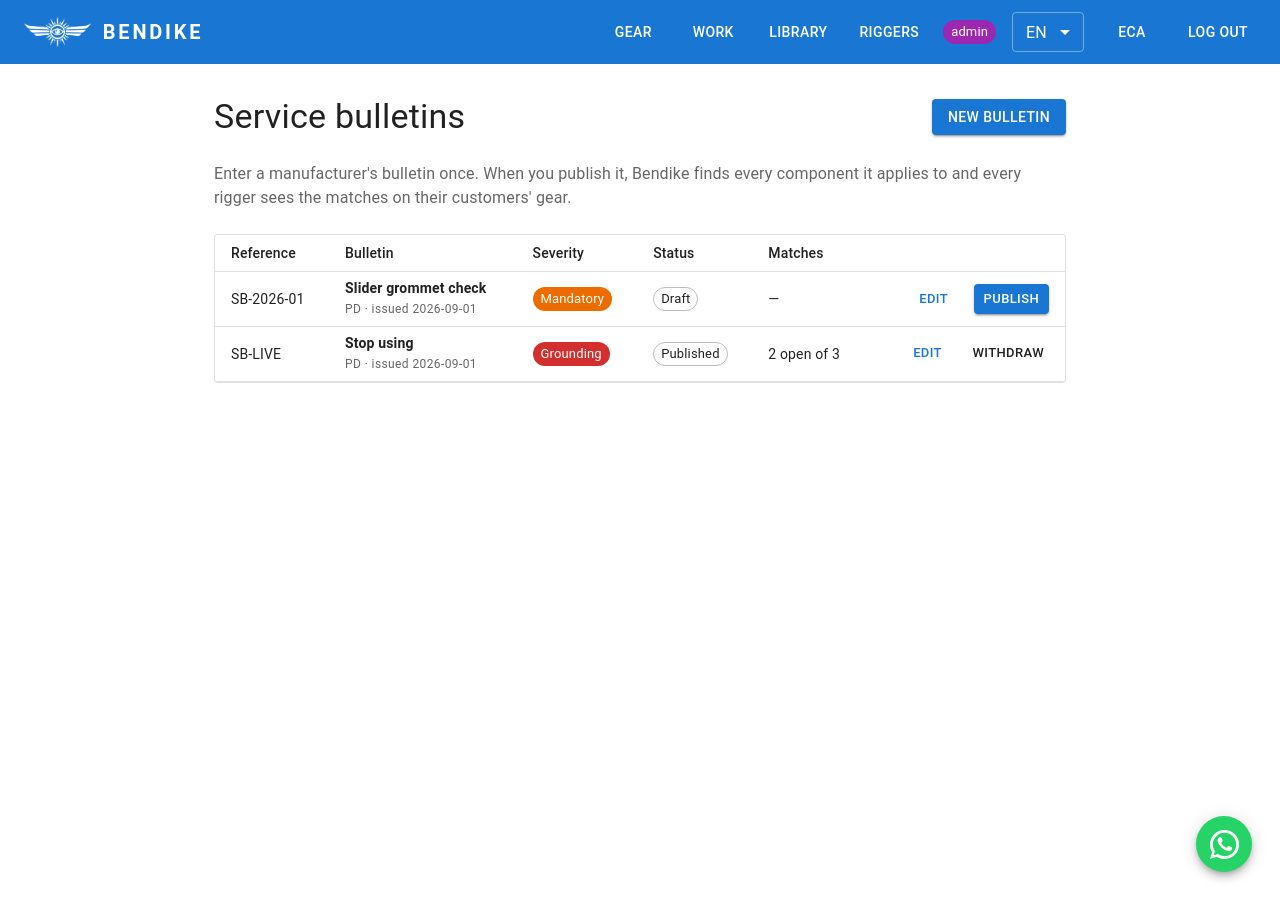
Test: BulletinsPage › warns that a grounding bulletin grounds every matched rig when it is published
Expected: the text "SB-2026-01" is shown, [215, 272, 329, 326]
Click the button "New bulletin" at (999, 117), box [932, 99, 1066, 135]
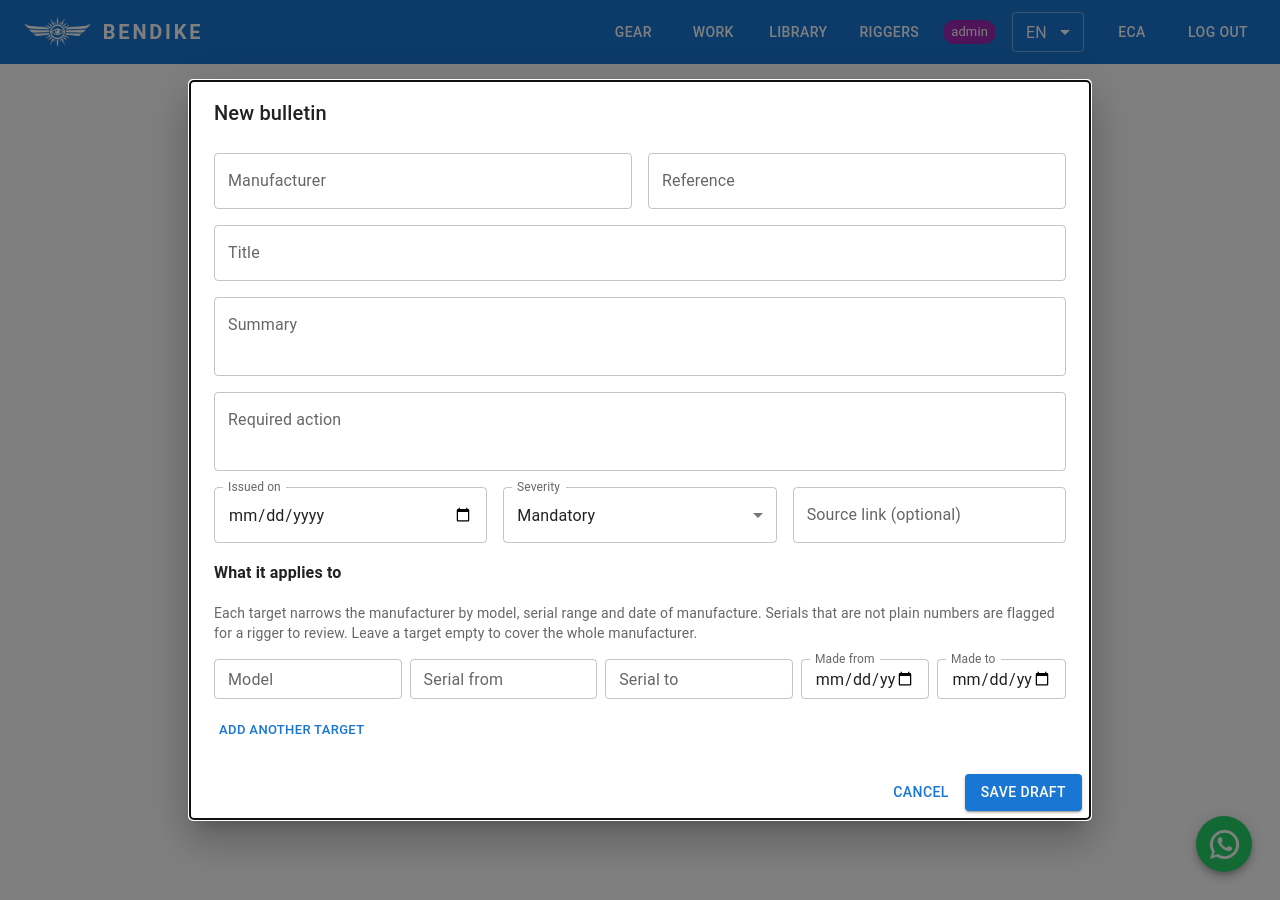
Click the dropdown named "Severity" at (556, 515), box [517, 506, 595, 525]
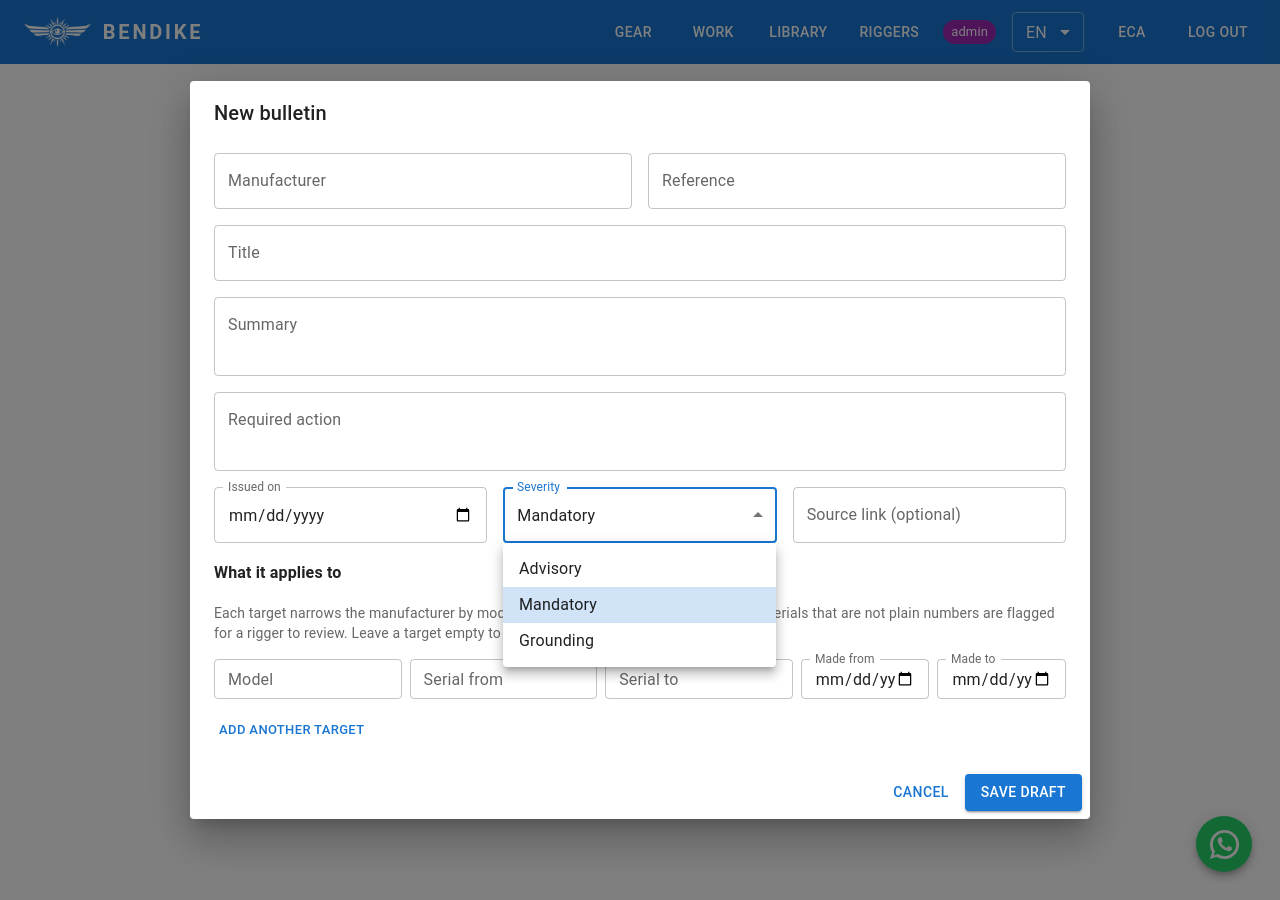
Click the option "Grounding" at (556, 640), box [519, 631, 594, 650]
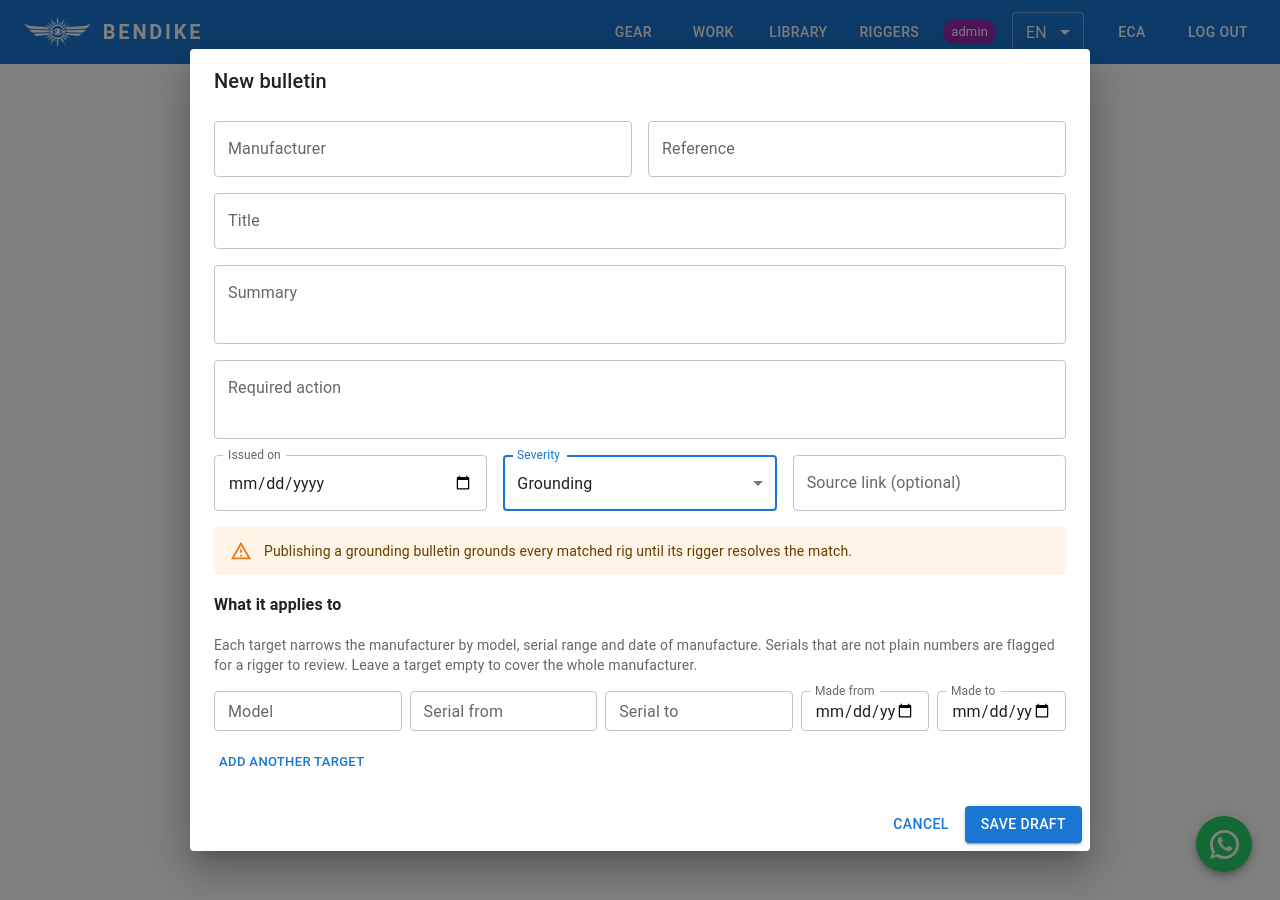
Expected: the text "grounds every matched rig" is shown, [264, 543, 852, 559]
